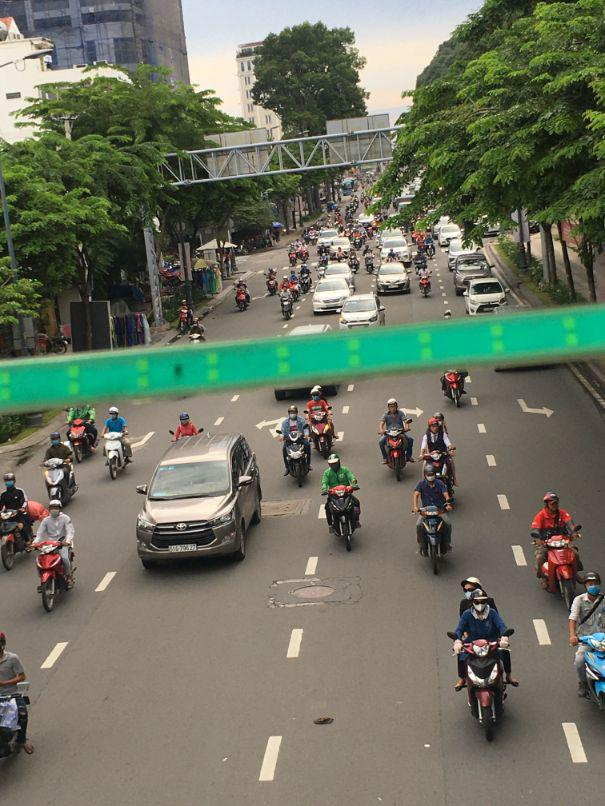car: (136, 430, 263, 571), (451, 253, 491, 298), (313, 274, 353, 316), (464, 277, 507, 315), (338, 294, 381, 327), (376, 263, 411, 298)
motorbike: (457, 638, 512, 743), (536, 529, 585, 612), (574, 629, 605, 724), (0, 490, 32, 573), (33, 545, 71, 614), (415, 505, 455, 568), (378, 418, 415, 484), (326, 488, 364, 550), (281, 422, 312, 487), (43, 455, 77, 507), (306, 403, 337, 457), (106, 436, 134, 483), (442, 370, 469, 407), (236, 283, 251, 311), (281, 290, 295, 318), (419, 270, 431, 297)
